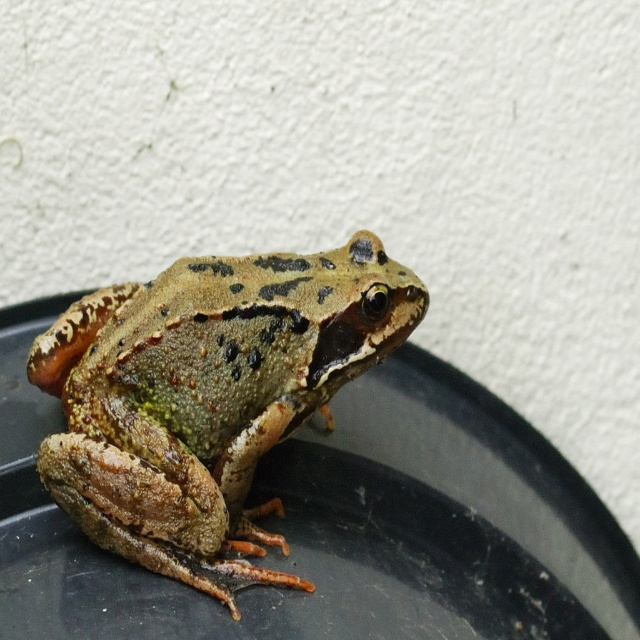Frog: (27, 230, 430, 620)
